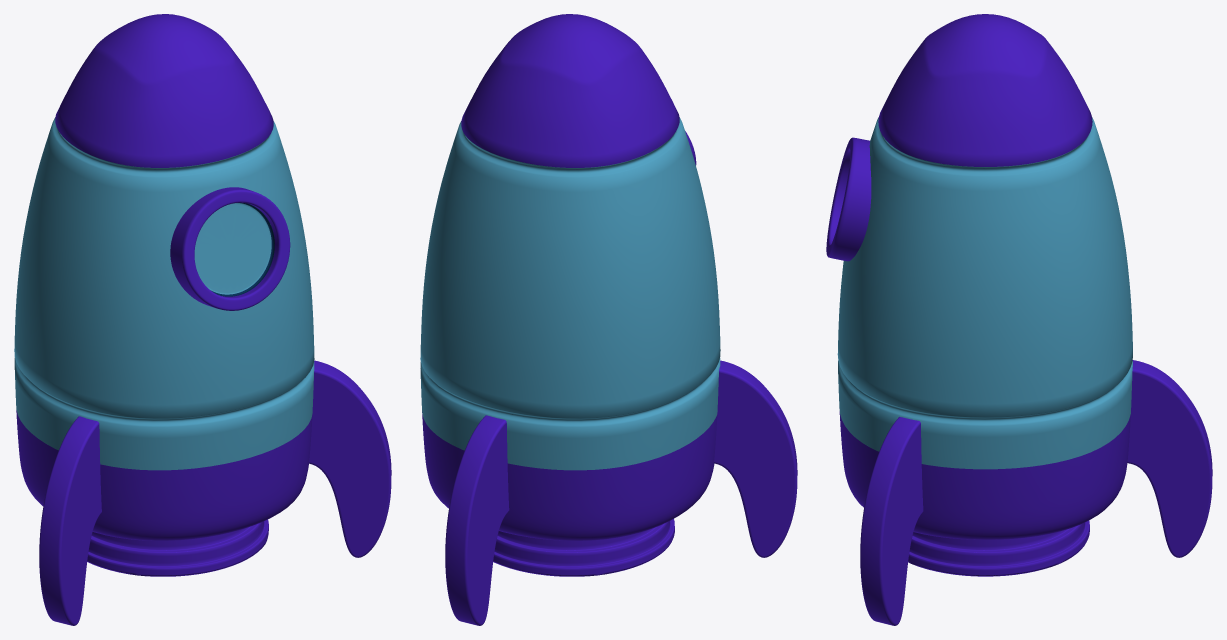
Rendered from rocket.glb.
3 renders of one model, left to right at view 1: azimuth 30°, elevation 25°; view 2: azimuth 150°, elevation 25°; view 3: azimuth 270°, elevation 25°, orthographic.
Visible parts, largest first — view 1: Cube.001, Cylinder, BezierCircle.002, BezierCircle; view 2: Cube.001, BezierCircle, BezierCircle.001; view 3: Cube.001, BezierCircle.001, BezierCircle.002, Cylinder.
Boxes of the visible parts, x1,y1,x2,y2 form: Cube.001: (14, 14, 314, 576); Cylinder: (170, 187, 290, 310); BezierCircle.002: (309, 360, 391, 557); BezierCircle: (39, 416, 101, 625); Cube.001: (420, 14, 720, 576); BezierCircle: (714, 360, 797, 557); BezierCircle.001: (445, 415, 509, 625); Cube.001: (837, 14, 1132, 576); BezierCircle.001: (1127, 360, 1212, 557); BezierCircle.002: (860, 417, 923, 625); Cylinder: (826, 137, 871, 261).
Size of the model in its own units: 2.57 by 3.74 by 2.46.
